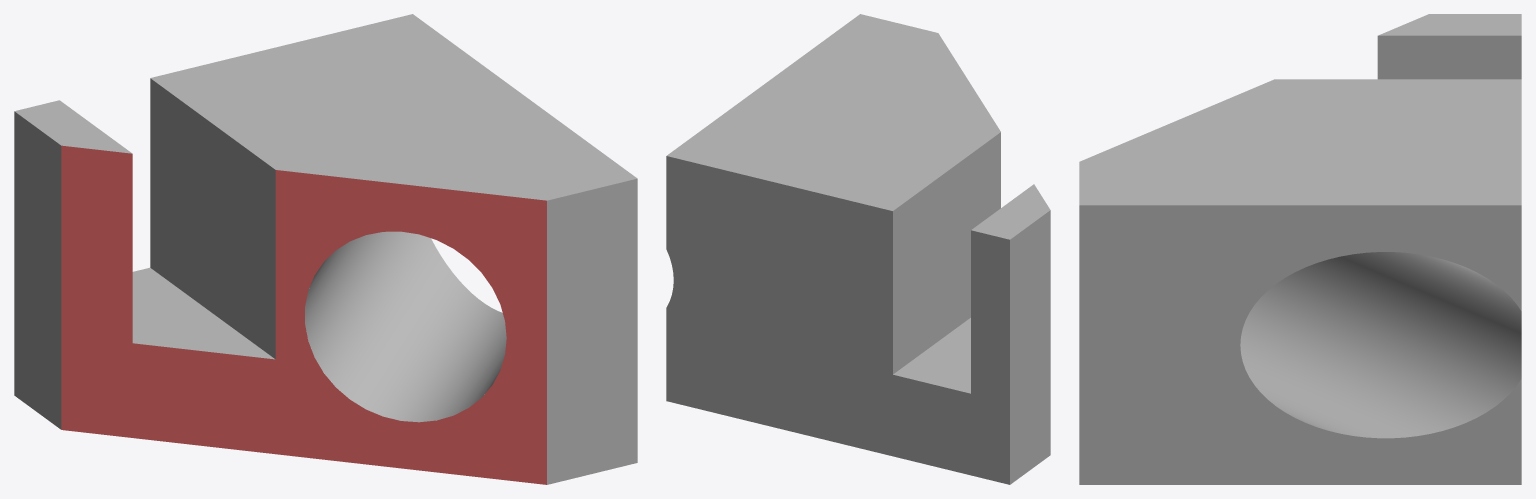
3 renders of one model, left to right at view 1: azimuth 30°, elevation 25°; view 2: azimuth 150°, elevation 25°; view 3: azimuth 270°, elevation 25°, orthographic. The views are drawn at different scales.
Parts seen in each view (by area): view 1: 35-5.SLDPRT; view 2: 35-5.SLDPRT; view 3: 35-5.SLDPRT.
Boxes of the visible parts, x1,y1,x2,y2 form: 35-5.SLDPRT: [14, 14, 637, 484]; 35-5.SLDPRT: [666, 14, 1050, 484]; 35-5.SLDPRT: [1079, 14, 1521, 484].
Size of the model in its own units: 0.044 by 0.03 by 0.043.
